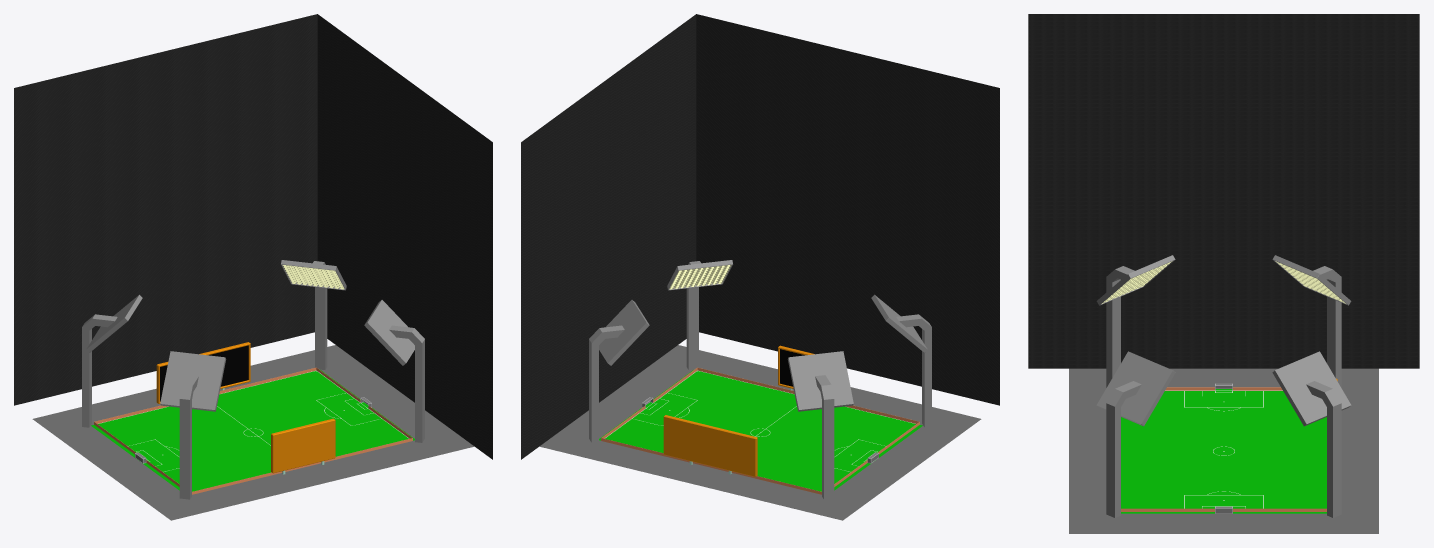
Rendered from Soccerfield.gltf.
3 renders of one model, left to right at view 1: azimuth 30°, elevation 25°; view 2: azimuth 150°, elevation 25°; view 3: azimuth 270°, elevation 25°, orthographic. The views are drawn at different scales.
Parts seen in each view (by area): view 1: BackPlane, RightPlane, ConcreteFloor:1, Grassplane, Lights_MIR:1, Lights_MIR_MIR:1, VideoJukebox:1, Lights_MIR1:1, Lights:1, Border:1 (×2), Scoreboard:1; view 2: FrontPlane, RightPlane, ConcreteFloor:1, Grassplane, Lights:1, Scoreboard:1, Lights_MIR1:1, Lights_MIR_MIR:1, Lights_MIR:1, Border:1 (×2), VideoJukebox:1; view 3: LeftPlane, Grassplane, ConcreteFloor:1, Lights_MIR1:1, Lights_MIR_MIR:1, Lights_MIR:1, Lights:1, Border:1 (×2), FieldLines:1.
Boxes of the visible parts, left/top/right/bottom form: BackPlane: left=14, top=14, right=317, bottom=405; RightPlane: left=317, top=14, right=492, bottom=459; ConcreteFloor:1: left=32, top=345, right=474, bottom=520; Grassplane: left=91, top=370, right=414, bottom=491; Lights_MIR:1: left=160, top=351, right=226, bottom=499; Lights_MIR_MIR:1: left=364, top=300, right=424, bottom=442; VideoJukebox:1: left=271, top=418, right=335, bottom=474; Lights_MIR1:1: left=281, top=260, right=346, bottom=369; Lights:1: left=82, top=294, right=142, bottom=427; Border:1 (×2): left=94, top=367, right=412, bottom=494; Scoreboard:1: left=156, top=342, right=250, bottom=403; FrontPlane: left=696, top=14, right=999, bottom=405; RightPlane: left=521, top=14, right=696, bottom=459; ConcreteFloor:1: left=539, top=345, right=981, bottom=520; Grassplane: left=599, top=370, right=922, bottom=491; Lights:1: left=787, top=351, right=853, bottom=499; Scoreboard:1: left=663, top=415, right=757, bottom=476; Lights_MIR1:1: left=589, top=300, right=649, bottom=442; Lights_MIR_MIR:1: left=667, top=260, right=732, bottom=369; Lights_MIR:1: left=871, top=294, right=931, bottom=427; Border:1 (×2): left=601, top=367, right=919, bottom=494; VideoJukebox:1: left=778, top=345, right=814, bottom=390; LeftPlane: left=1028, top=14, right=1419, bottom=368; Grassplane: left=1121, top=389, right=1326, bottom=513; ConcreteFloor:1: left=1069, top=368, right=1378, bottom=533; Lights_MIR1:1: left=1272, top=351, right=1351, bottom=517; Lights_MIR_MIR:1: left=1096, top=351, right=1175, bottom=517; Lights_MIR:1: left=1096, top=255, right=1175, bottom=387; Lights:1: left=1272, top=255, right=1351, bottom=387; Border:1 (×2): left=1121, top=387, right=1326, bottom=511; FieldLines:1: left=1165, top=390, right=1282, bottom=508.
Bounding box in the file's own units: 16400 × 16400 × 16400.
18 materials, 5 textured.
